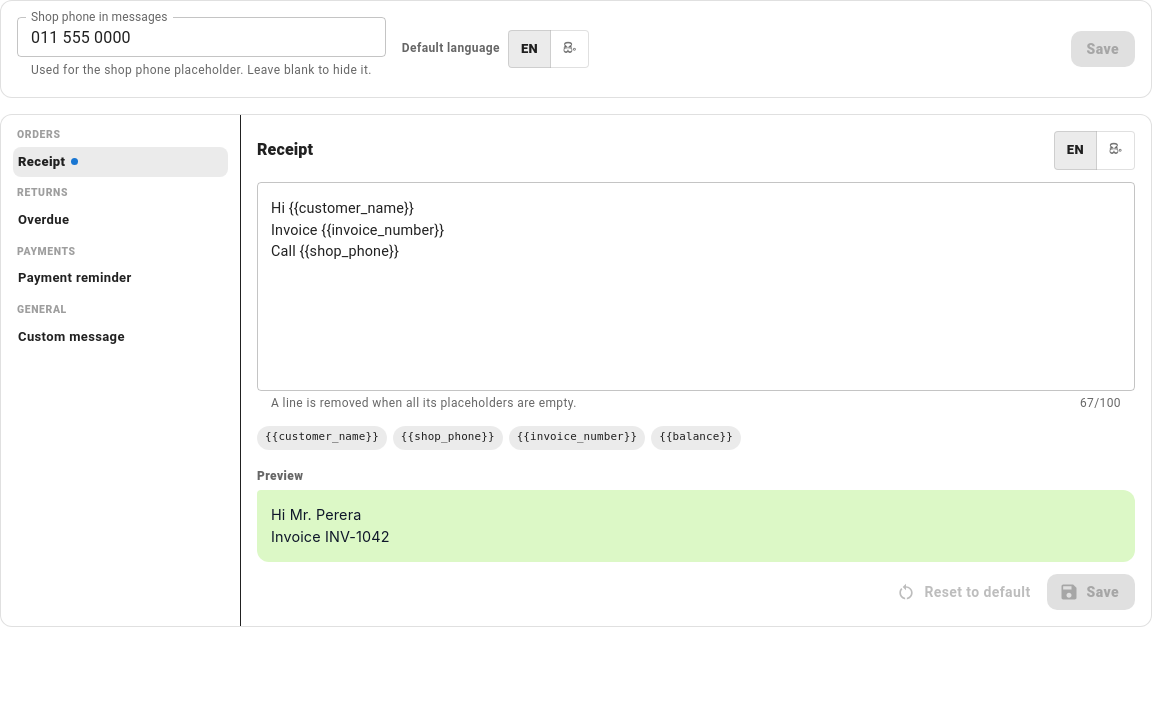
Test case: TemplatesTab › switches language
The width and height of the screenshot is (1152, 720).
Step 1. Click the button "සිං" in the row of "Orders" → (1116, 150), box [1096,131,1135,170]
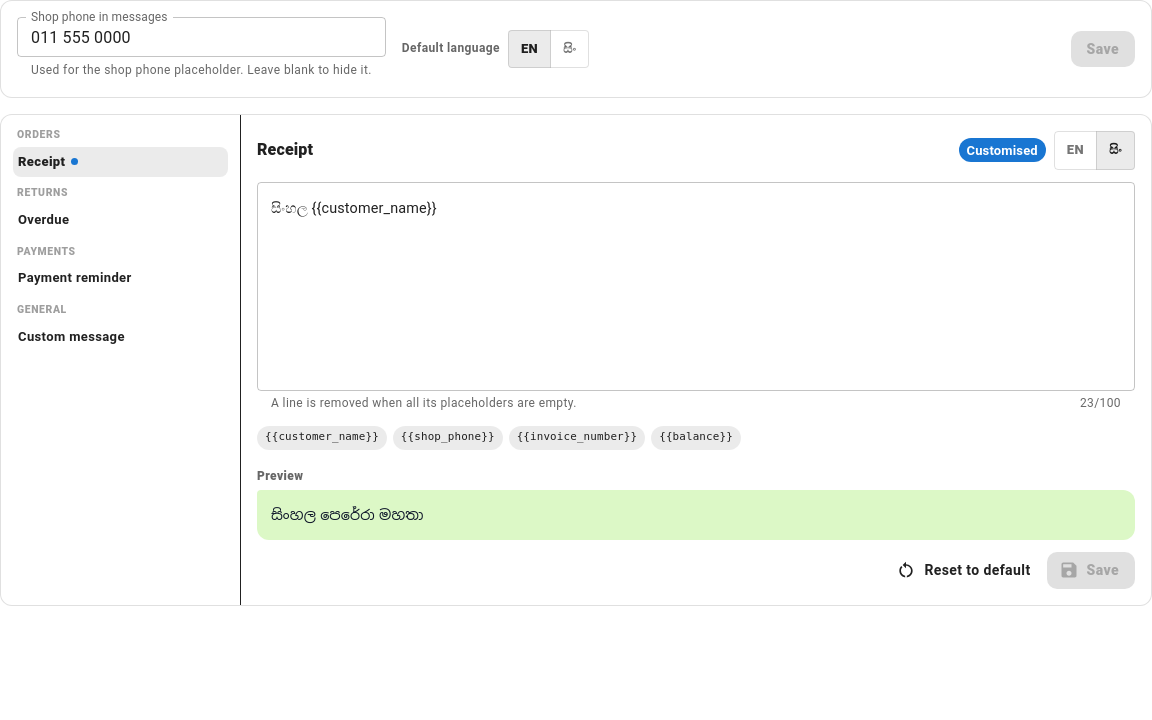
Expected: the text box named "Message wording" holds "සිංහල {{customer_name}}", [271,198,1121,374]
Expected: the text "Customised" is shown, [966,142,1038,158]
